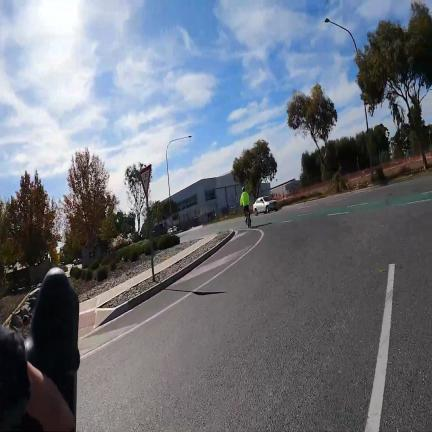Green_Bike_Lane: (263, 192, 432, 224)
